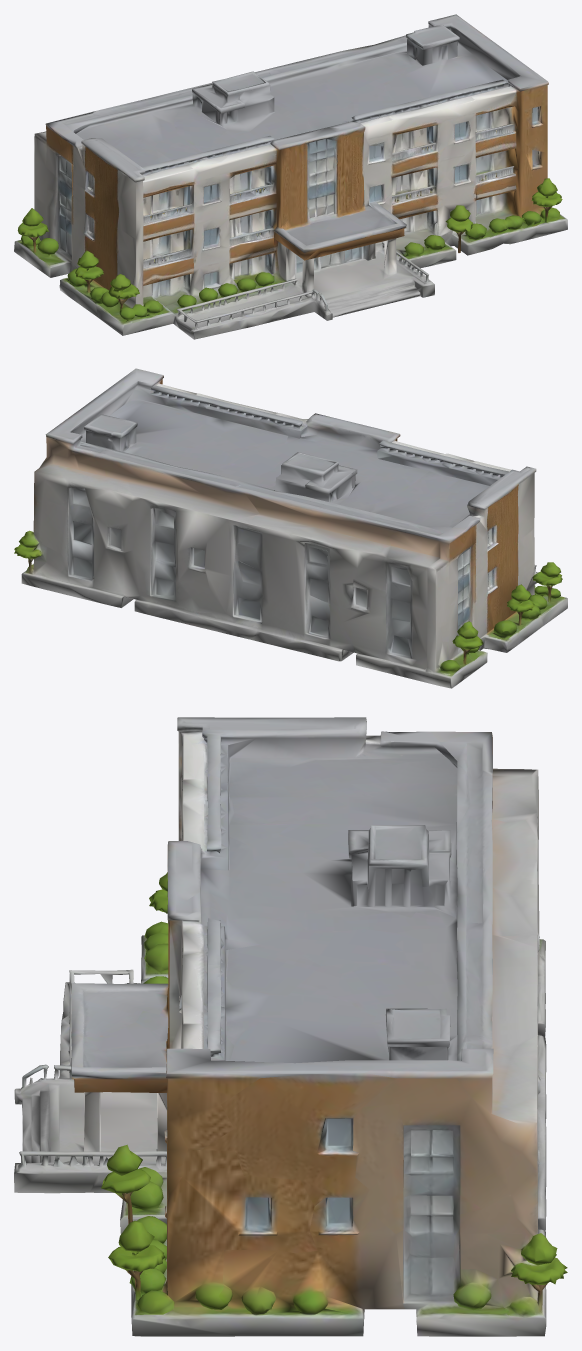
Rendered from dorm.glb.
3 renders of one model, top to bottom at view 1: azimuth 30°, elevation 25°; view 2: azimuth 150°, elevation 25°; view 3: azimuth 270°, elevation 25°, orthographic. The views are drawn at different scales.
Parts seen in each view (by area): view 1: tripo_node_32dd2ad6-403d-40ac-84d2-184d63d2e33c; view 2: tripo_node_32dd2ad6-403d-40ac-84d2-184d63d2e33c; view 3: tripo_node_32dd2ad6-403d-40ac-84d2-184d63d2e33c.
Boxes of the visible parts, x1,y1,x2,y2 form: tripo_node_32dd2ad6-403d-40ac-84d2-184d63d2e33c: (14, 14, 567, 339); tripo_node_32dd2ad6-403d-40ac-84d2-184d63d2e33c: (14, 368, 567, 688); tripo_node_32dd2ad6-403d-40ac-84d2-184d63d2e33c: (14, 717, 567, 1336).
Bounding box in the file's own units: 1 × 0.3247 × 0.5915.
1 material, 1 textured.
